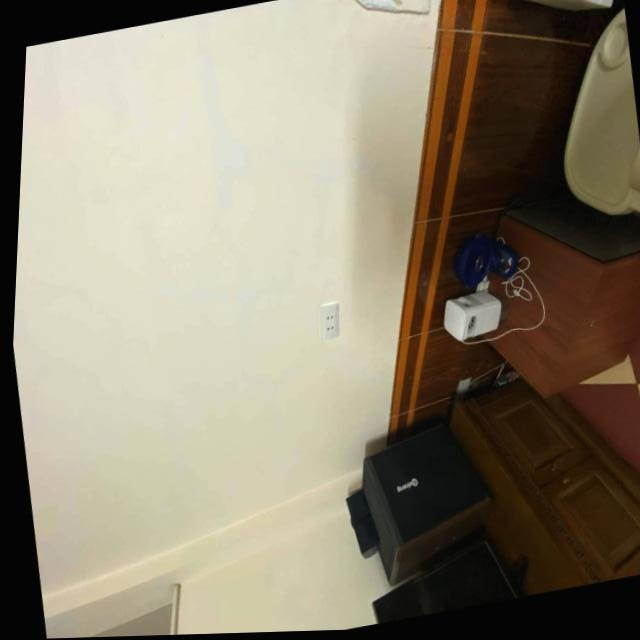outlet: (316, 301, 344, 342)
